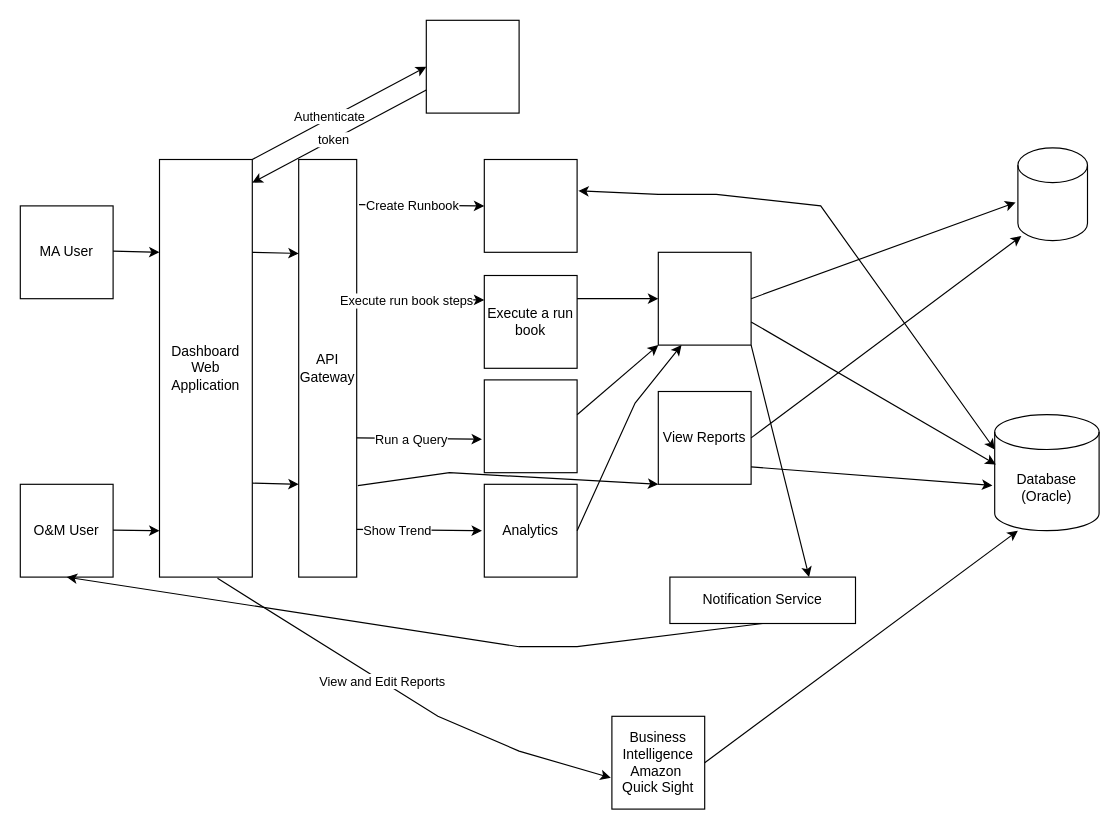
The diagram is 1119 pixels wide and 829 high, and some of its shapes have lost their labels. Here are the shapes that lost their labels. From the top down, the centre of each, then its label:
At point 472,66: "Centrify or Cognito Login System".
At point 530,205: "Create/Edit a run book".
At point 1052,194: "Object Storage (S3)".
At point 704,298: "Report Generation Service".
At point 530,426: "Run Adhoc Query".
